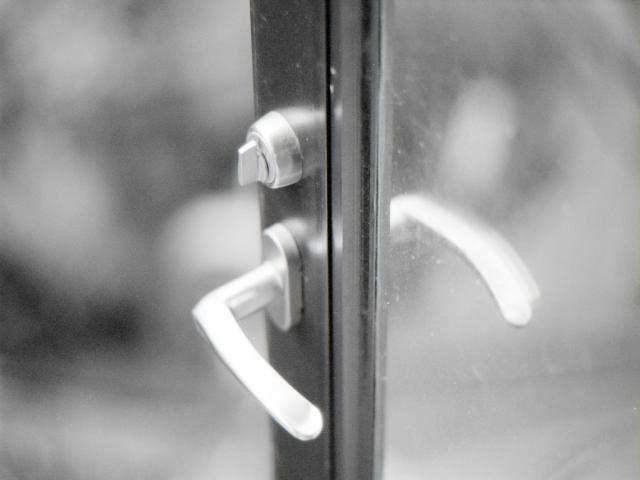Door-handle: (190, 221, 330, 443), (389, 185, 536, 326), (233, 106, 304, 194)
